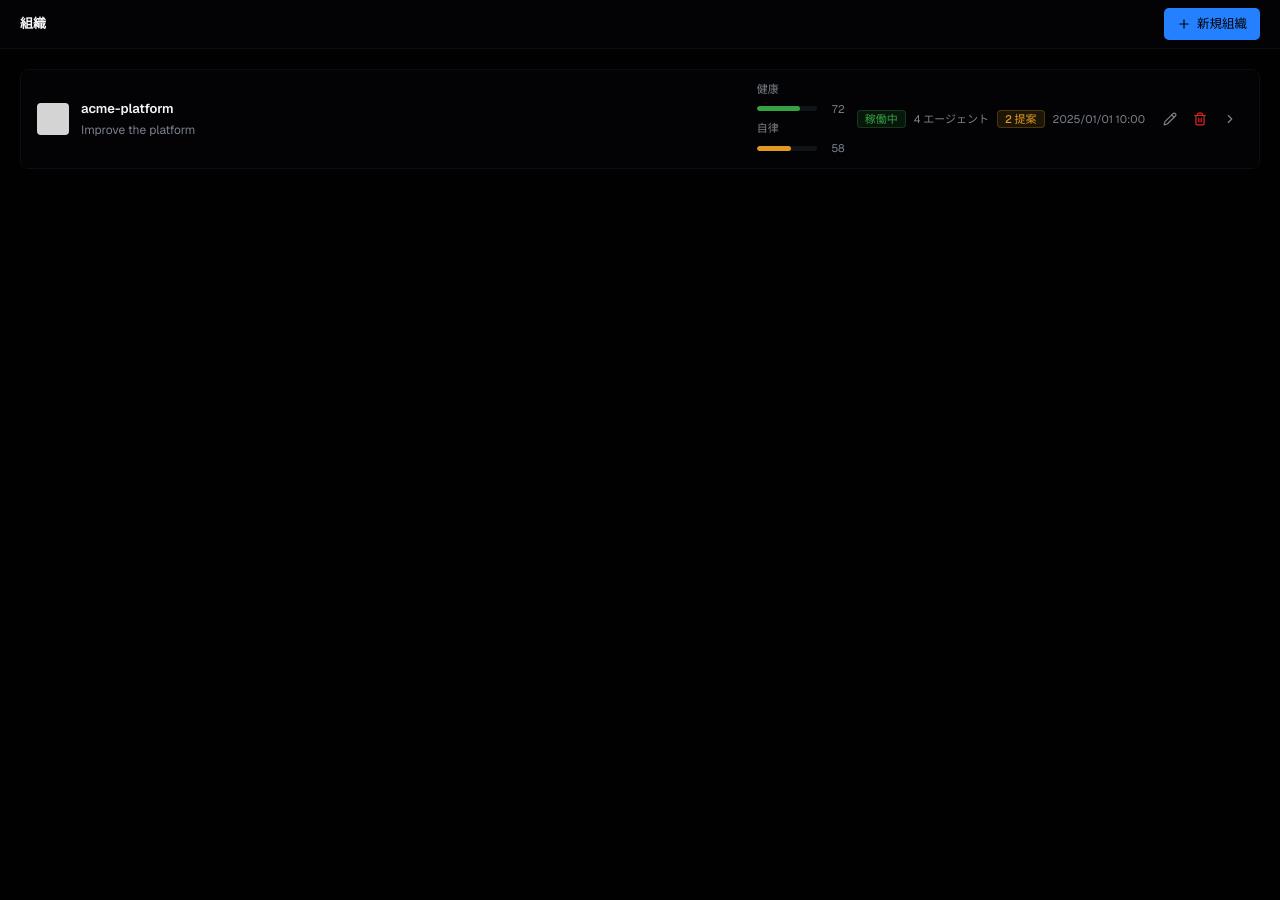
OrgsPage › opens the detail panel via the chevron button and renders org details
The width and height of the screenshot is (1280, 900).
Check: the text "acme-platform" is shown, box [81, 100, 174, 117]
Note: Detail is now opened via the Chevron button, not the whole card
Click the button named "acme-platform の詳細を開く".
click(1230, 119)  # box [1217, 106, 1243, 132]
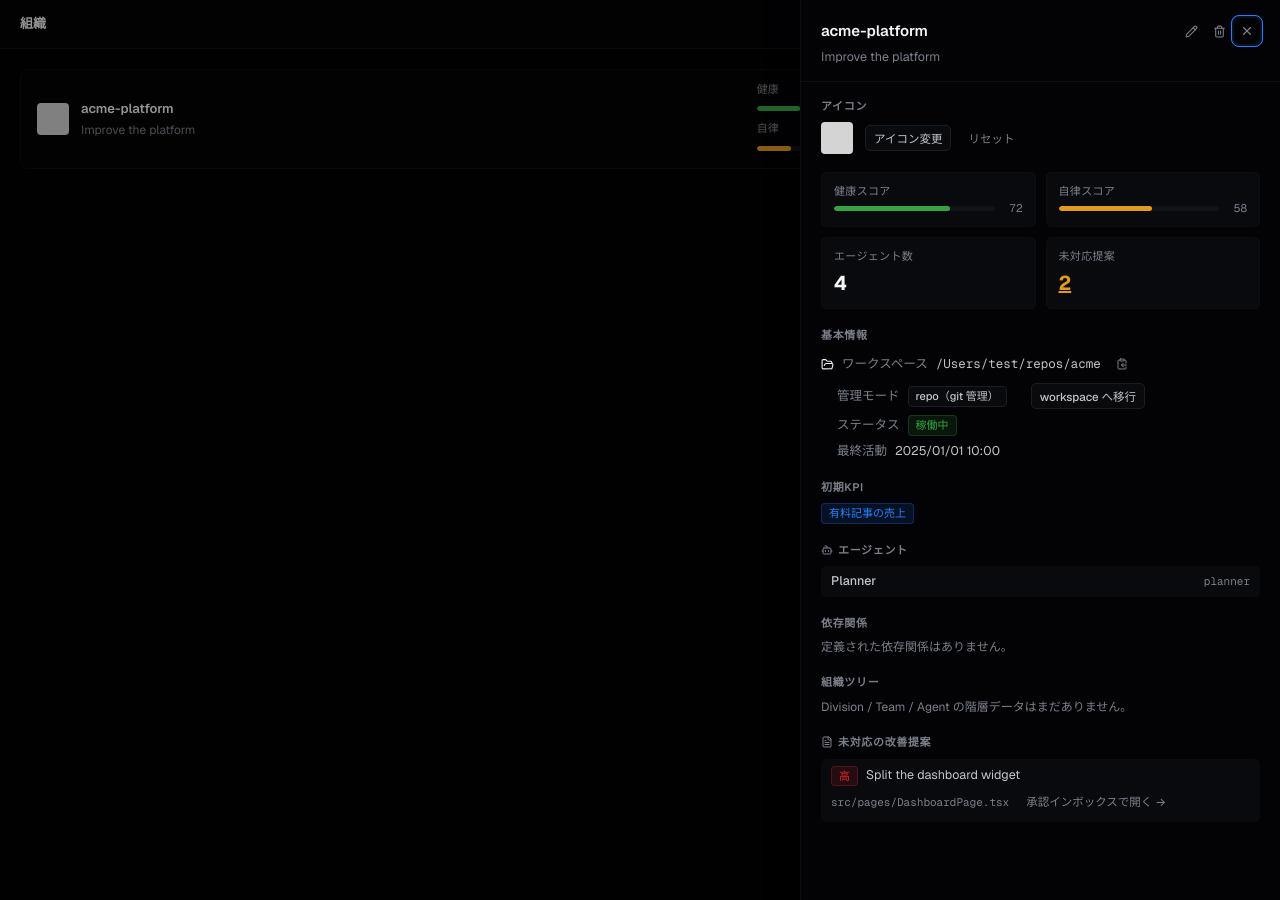
Check: the text "Planner" is shown, box [831, 572, 876, 591]
Check: the button "アイコン変更" is shown, box [865, 125, 951, 151]
Check: the button "リセット" is shown, box [959, 125, 1023, 151]
